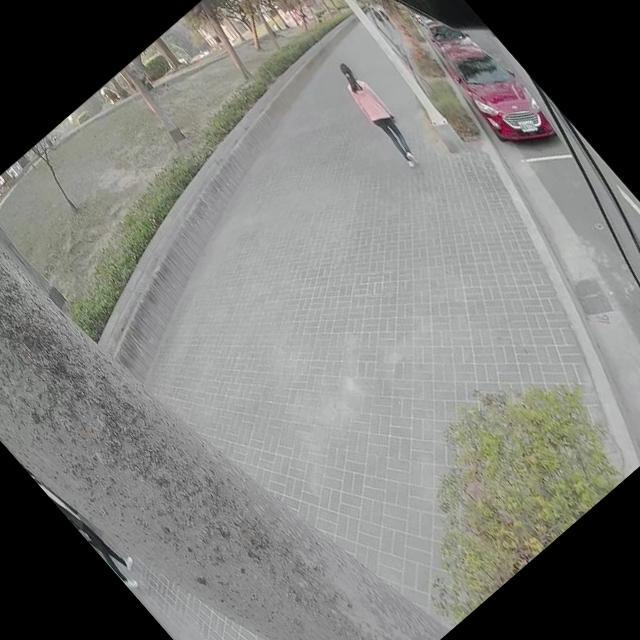person: (30, 461, 148, 592), (327, 58, 428, 168)
